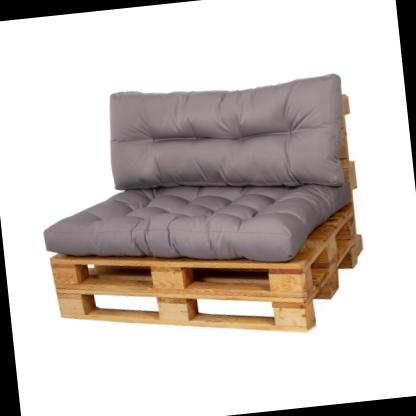BoxFace: (53, 230, 368, 334), (51, 207, 361, 302)
